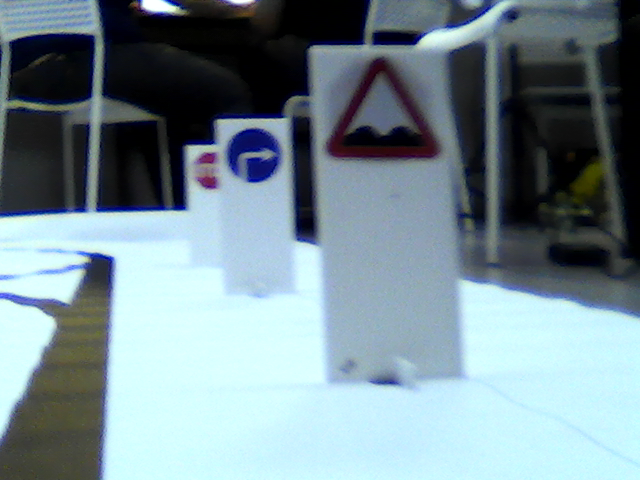Nerov: (325, 52, 441, 163)
